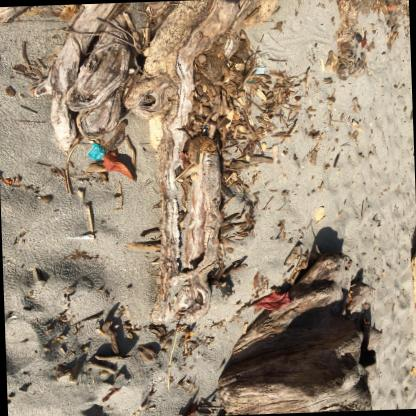Plastic: (85, 143, 105, 161), (66, 236, 94, 239), (245, 81, 255, 84)
Waste: (252, 67, 265, 75)
